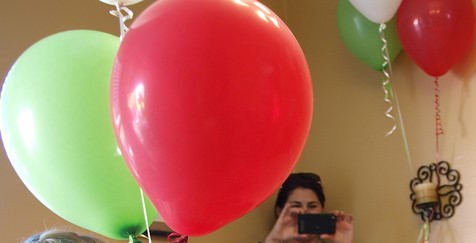Balloon: (111, 1, 314, 236), (1, 29, 158, 242), (392, 1, 476, 78), (338, 1, 403, 69)
